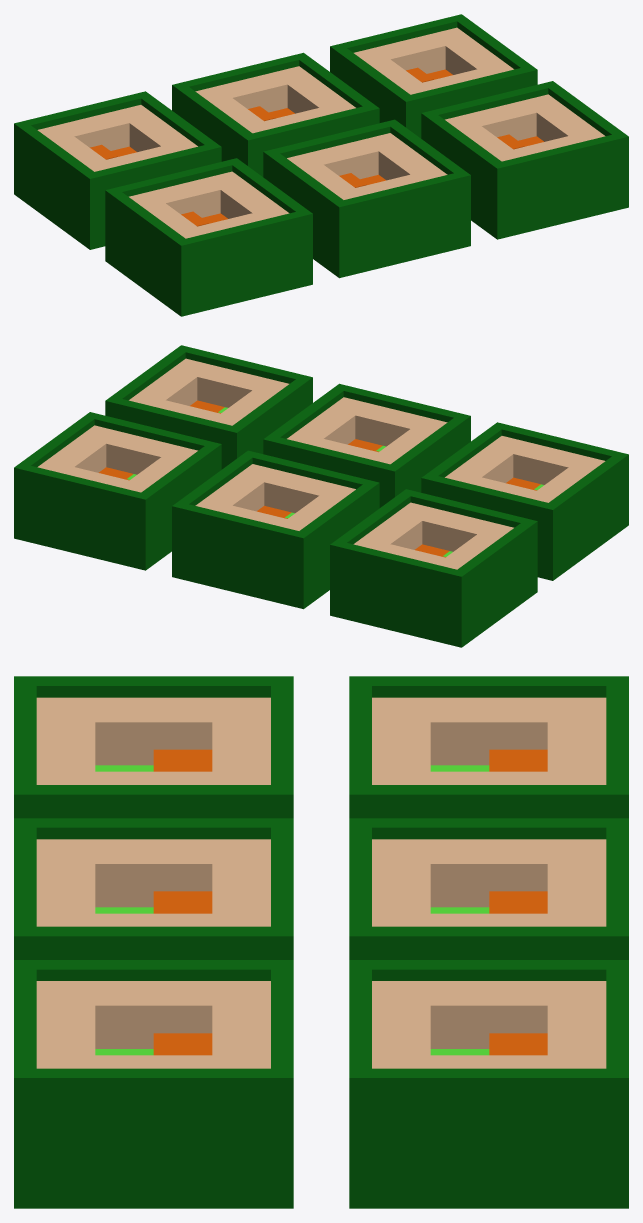
The model's file is Sushi.glb.
3 renders of one model, top to bottom at view 1: azimuth 30°, elevation 25°; view 2: azimuth 150°, elevation 25°; view 3: azimuth 270°, elevation 25°, orthographic. The views are drawn at different scales.
Parts seen in each view (by area): view 1: Sushi; view 2: Sushi; view 3: Sushi.
Part boxes in pixels (left/top/right/bottom): Sushi: left=14, top=14, right=628, bottom=316; Sushi: left=14, top=345, right=628, bottom=647; Sushi: left=14, top=676, right=628, bottom=1208.
Bounding box in the file's own units: 5.33 × 0.8067 × 3.45.
